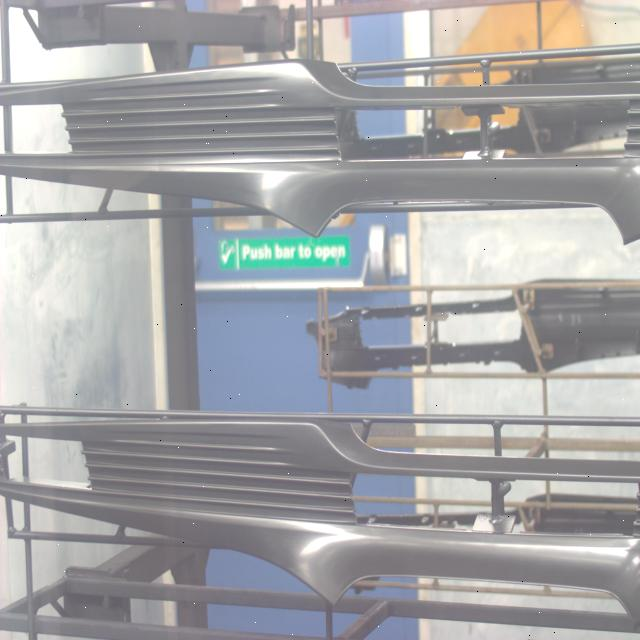Non_primered: (2, 412, 640, 604), (0, 61, 640, 235)
